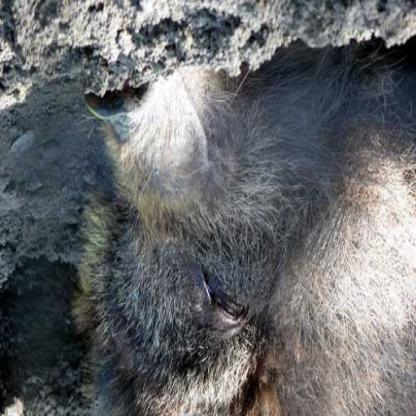boar: (51, 40, 415, 409)
